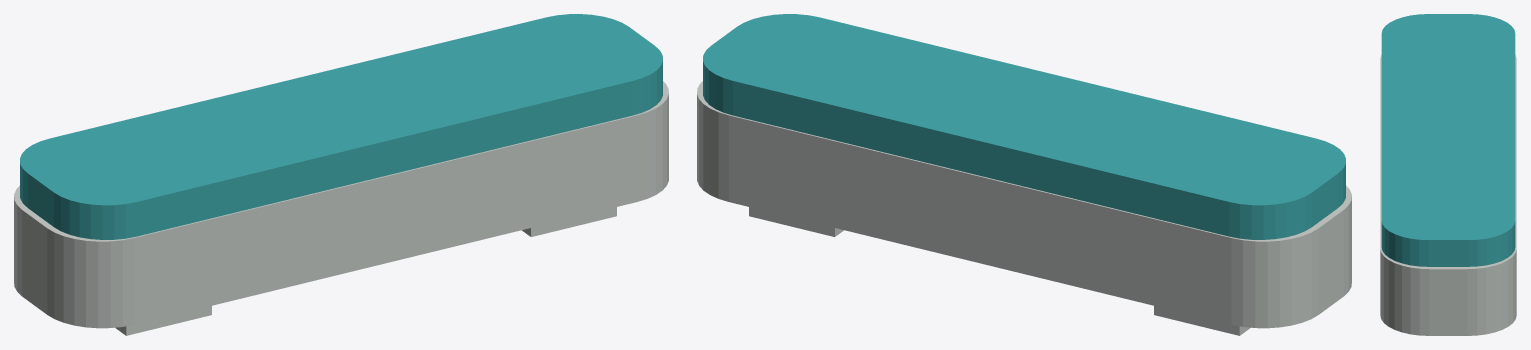
The model's file is seat.glb.
The picture shows the model from 3 angles, left to right: view 1: azimuth 30°, elevation 25°; view 2: azimuth 150°, elevation 25°; view 3: azimuth 270°, elevation 25°; orthographic projection. The views are drawn at different scales.
Bounding box in the file's own units: 2 × 0.45 × 0.5.
